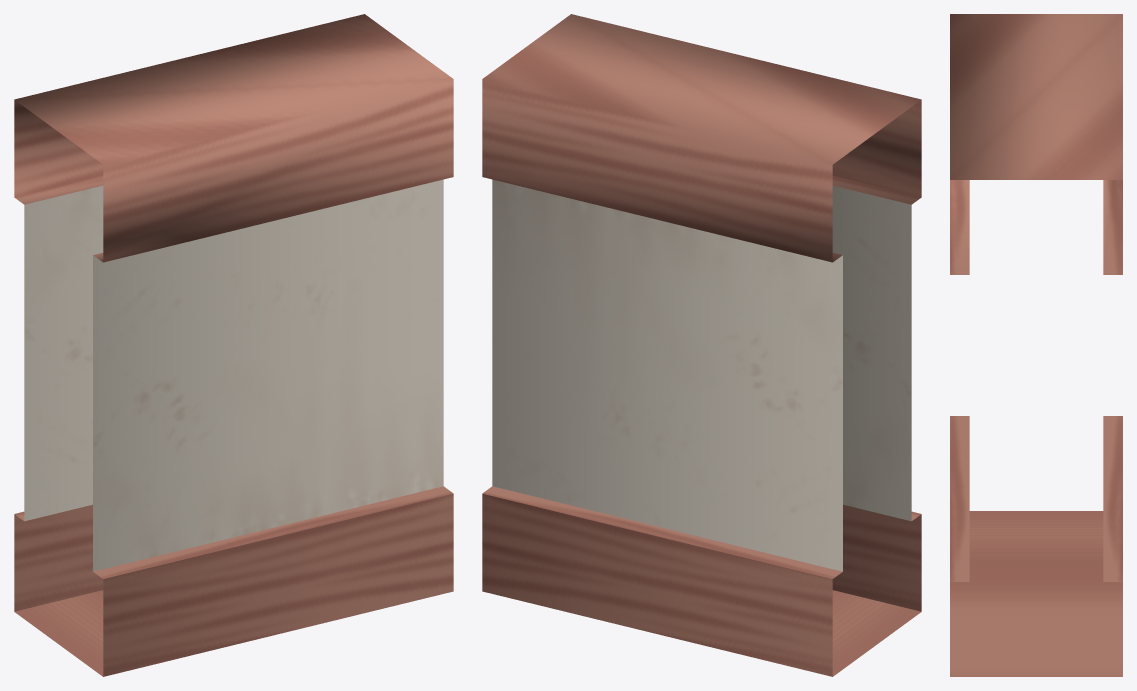
File: paret_porta_noPorta.fbx
3 views of the same model, side by side, from view 1: azimuth 30°, elevation 25°; view 2: azimuth 150°, elevation 25°; view 3: azimuth 270°, elevation 25° (orthographic). The views are drawn at different scales.
Parts seen in each view (by area): view 1: Pared_Puerta_No_Puerta; view 2: Pared_Puerta_No_Puerta; view 3: Pared_Puerta_No_Puerta.
Boxes of the visible parts, left/top/right/bottom form: Pared_Puerta_No_Puerta: left=14, top=14, right=453, bottom=676; Pared_Puerta_No_Puerta: left=482, top=14, right=921, bottom=676; Pared_Puerta_No_Puerta: left=950, top=14, right=1122, bottom=676.
Size of the model in its own units: 100 by 140 by 44.
